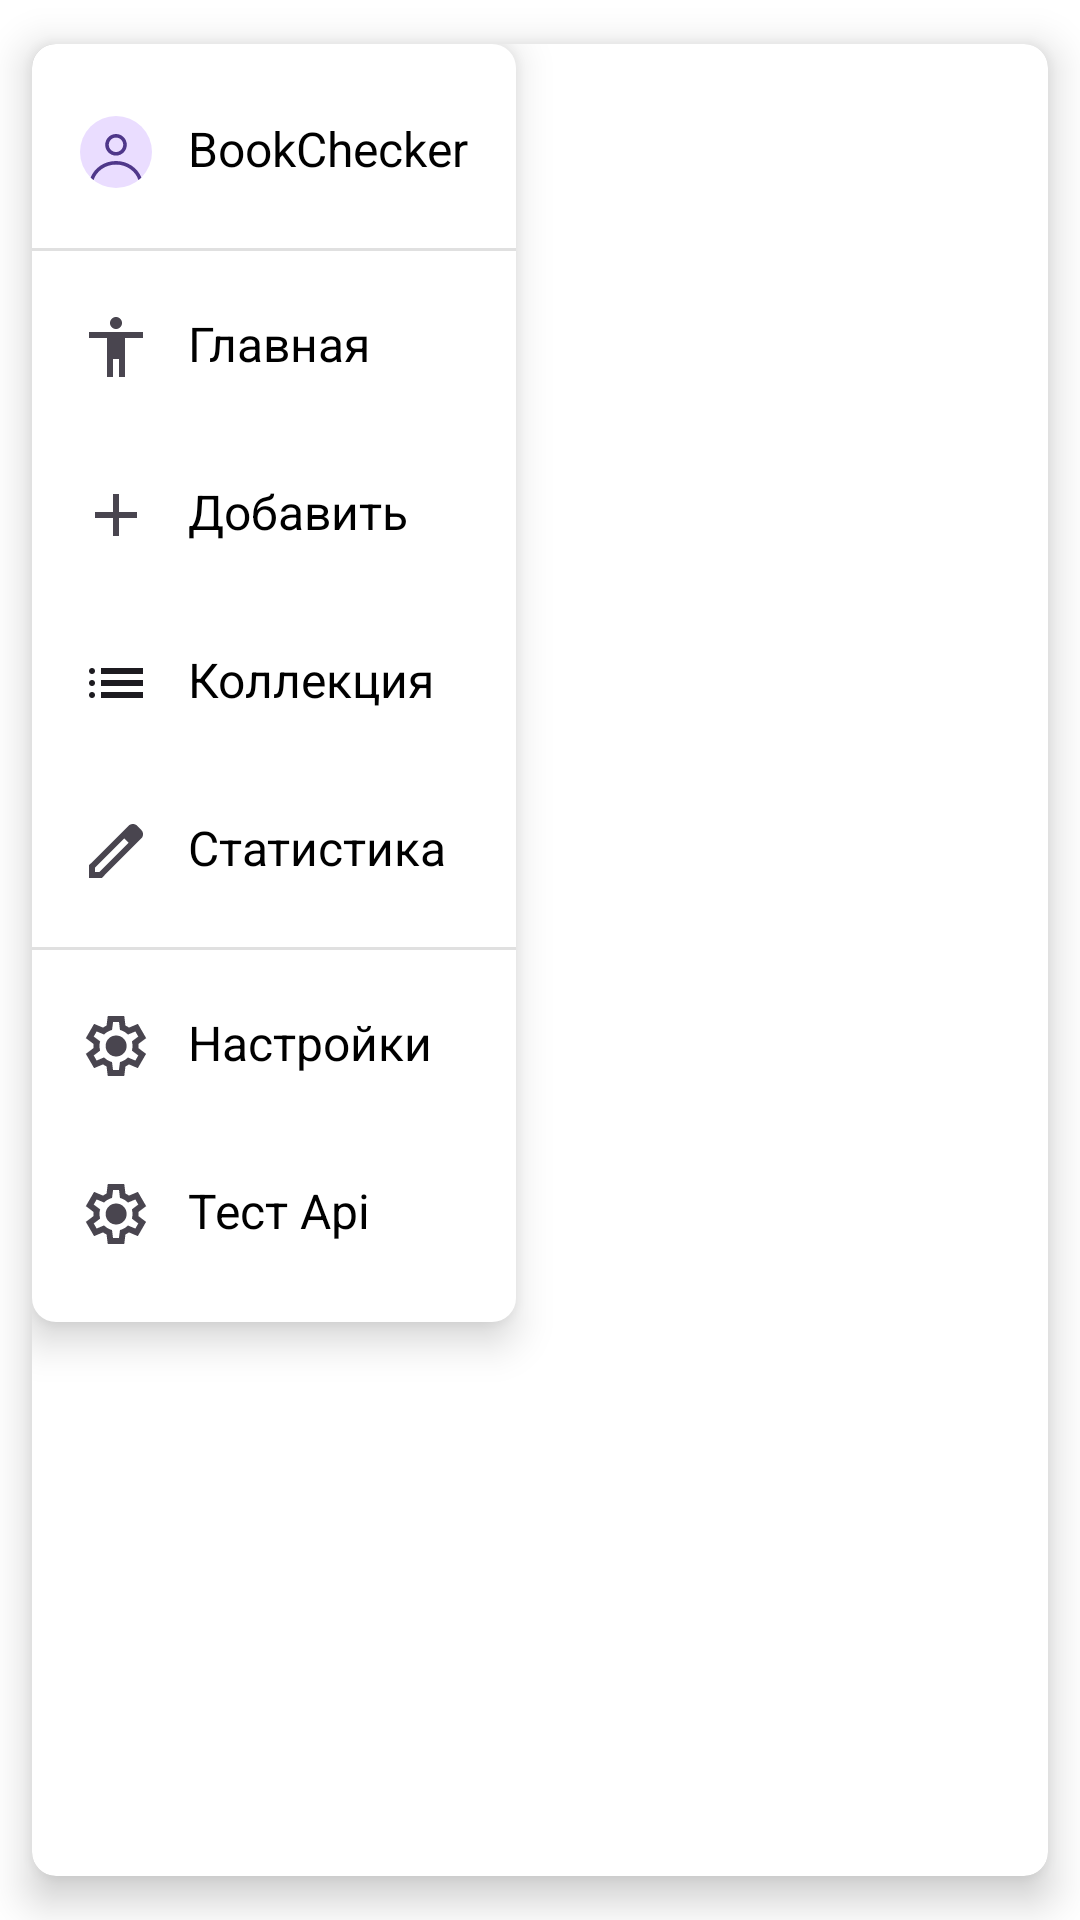

Icon click points for this 1080 x 1920 phone screenshot, format point (x, y):
add: point (116, 515)
collections: point (116, 683)
settings: point (116, 1046), point (116, 1214)
